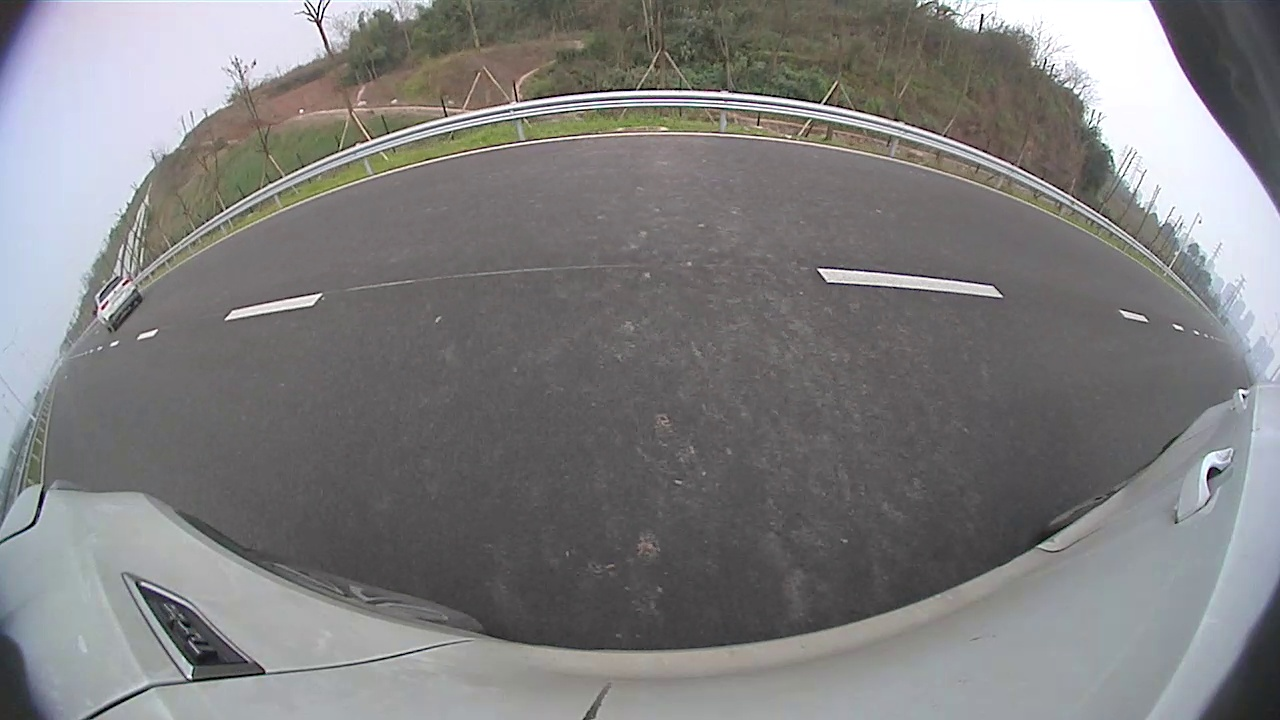car: (723, 149, 806, 201)
front: (724, 174, 733, 192)
rear: (743, 176, 755, 195)
